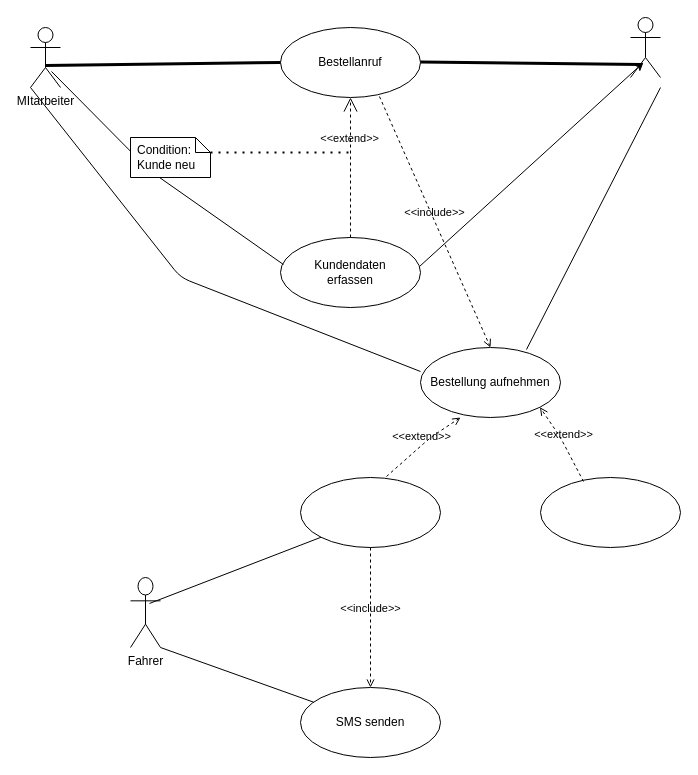
The diagram is 698 pixels wide and 775 high, and some of its shapes have lost their labels. The centre of each missing label's shape, as x and y in pixels:
"Auslieferung" belongs at (x=370, y=512).
"Kunde" belongs at (x=645, y=47).
"Selbstabholung" belongs at (x=610, y=512).
